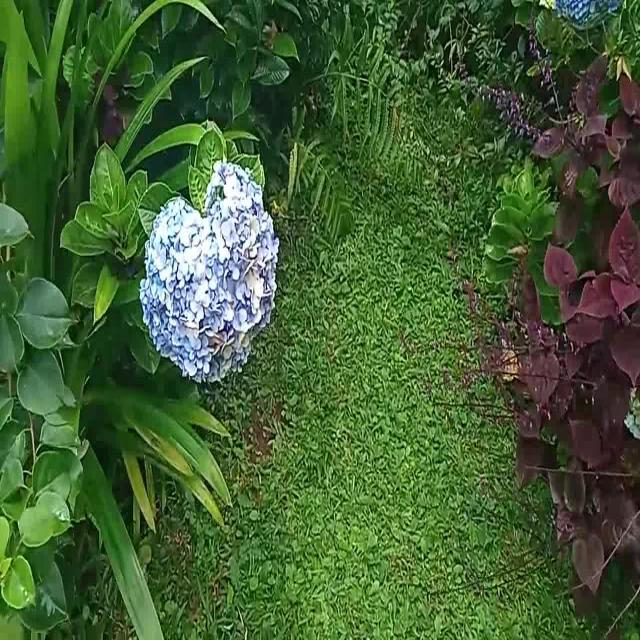Flower: (140, 157, 296, 400)
